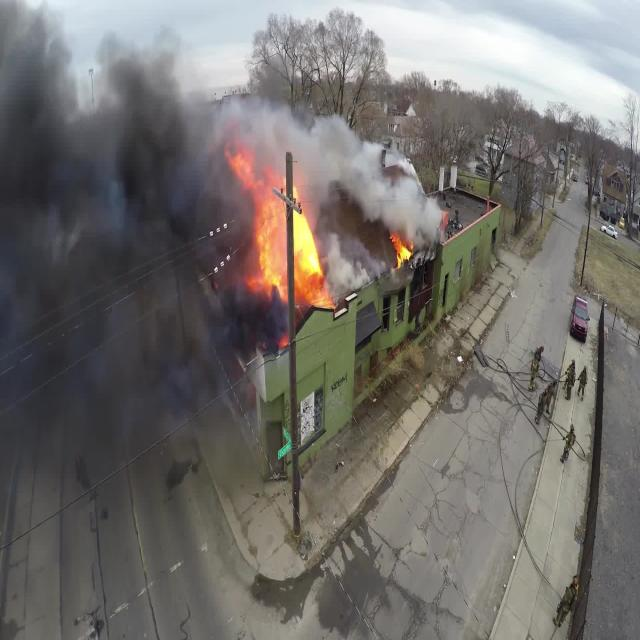Fire: (222, 146, 415, 324)
Smoke: (0, 45, 442, 498)
